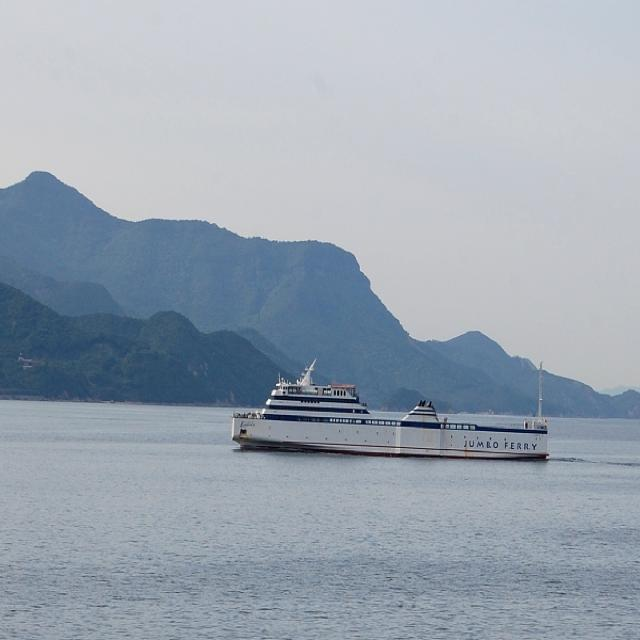houseboat: (211, 351, 565, 481)
